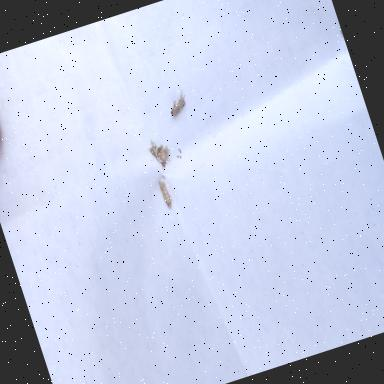pbw: (164, 88, 190, 116), (158, 180, 174, 208), (158, 144, 172, 162)
